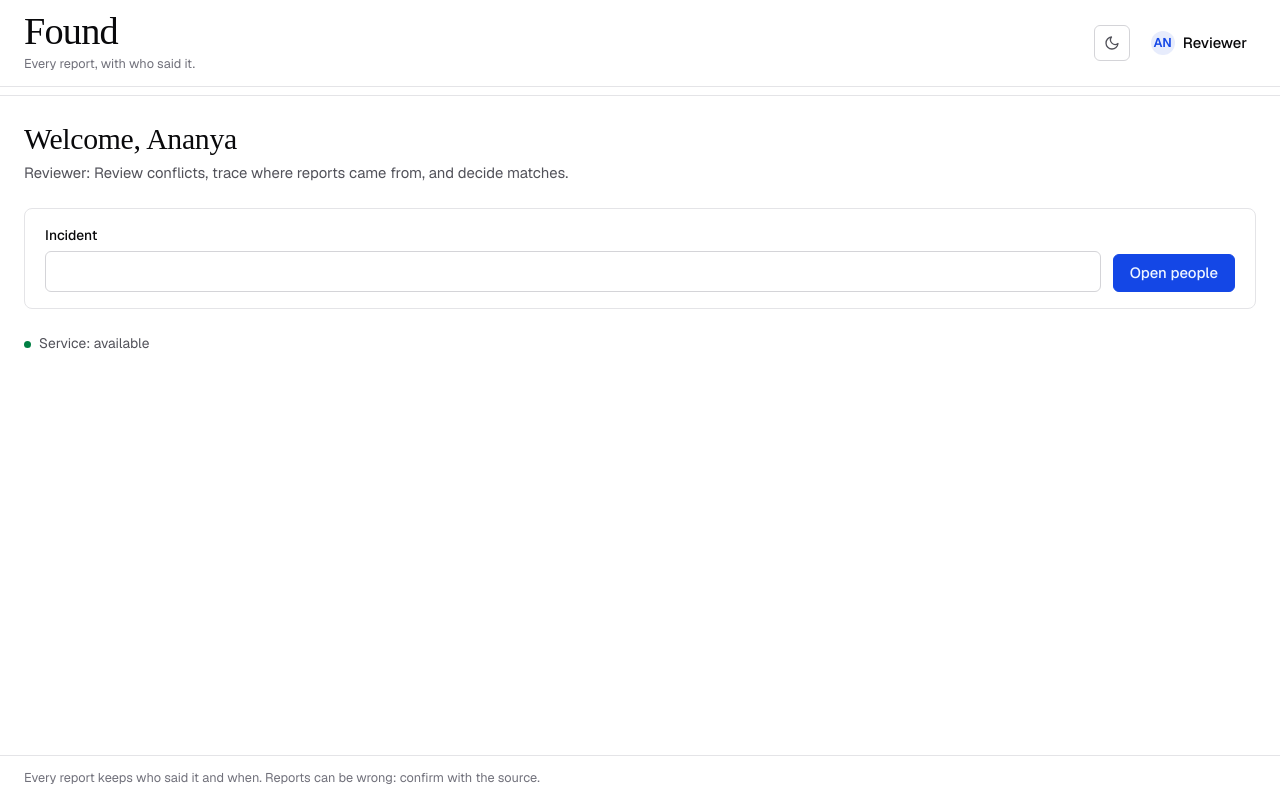
sign-in › signs out back to the sign-in page
The image size is (1280, 800).
What coordinates should you click on to do the following:
click the button with aria-label "Account:"
I would click on:
 (1201, 43)
Its box is [1146,26,1256,60].
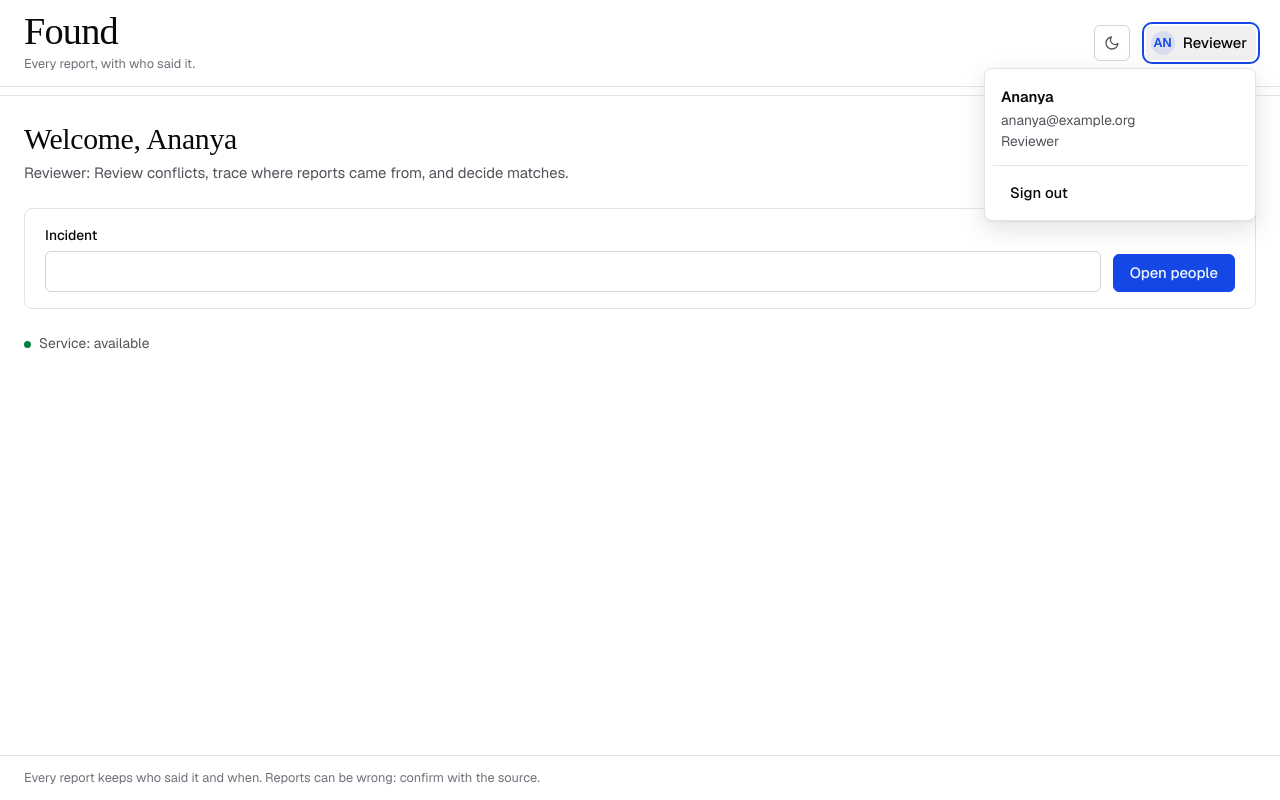
What coordinates should you click on to do the following:
click the button "Sign out"
I would click on:
 (1120, 193)
Its box is [993,174,1247,212].
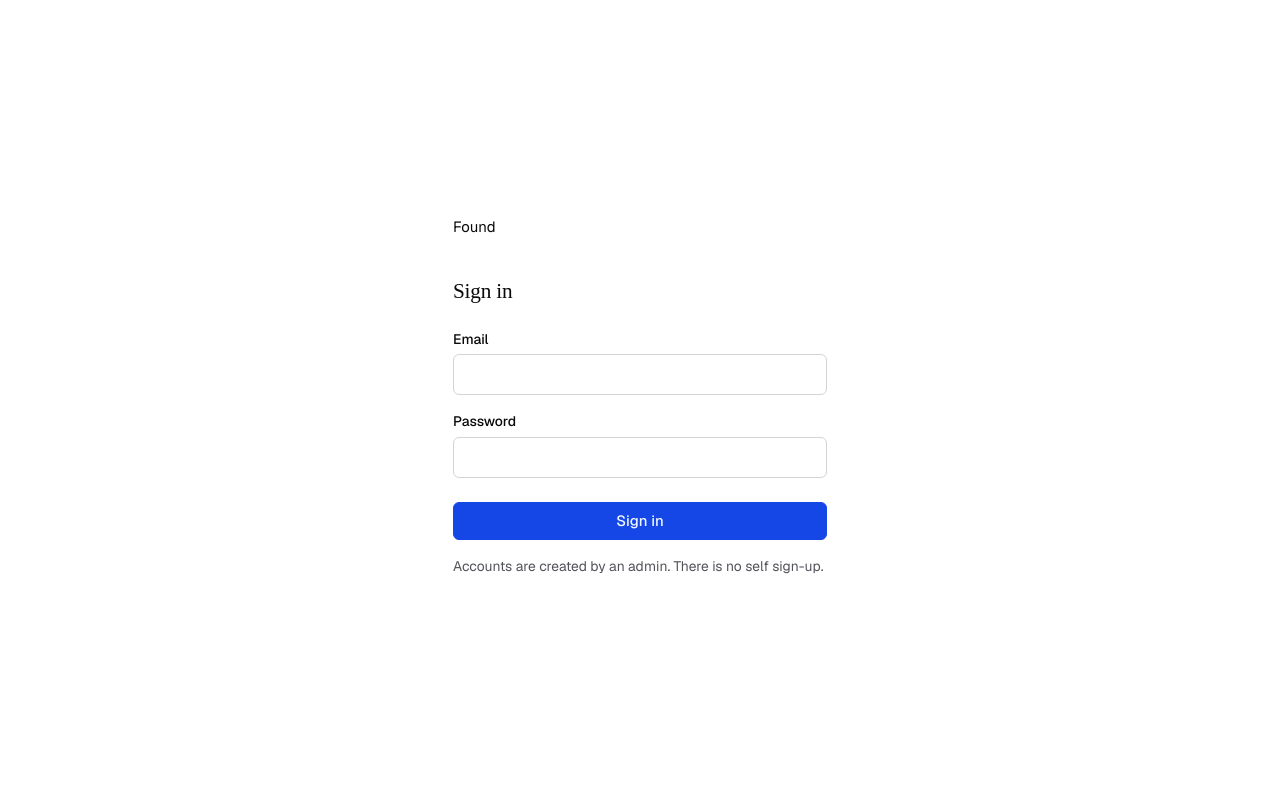
Check: the heading "Sign in" is shown, box [453,279,512,303]
